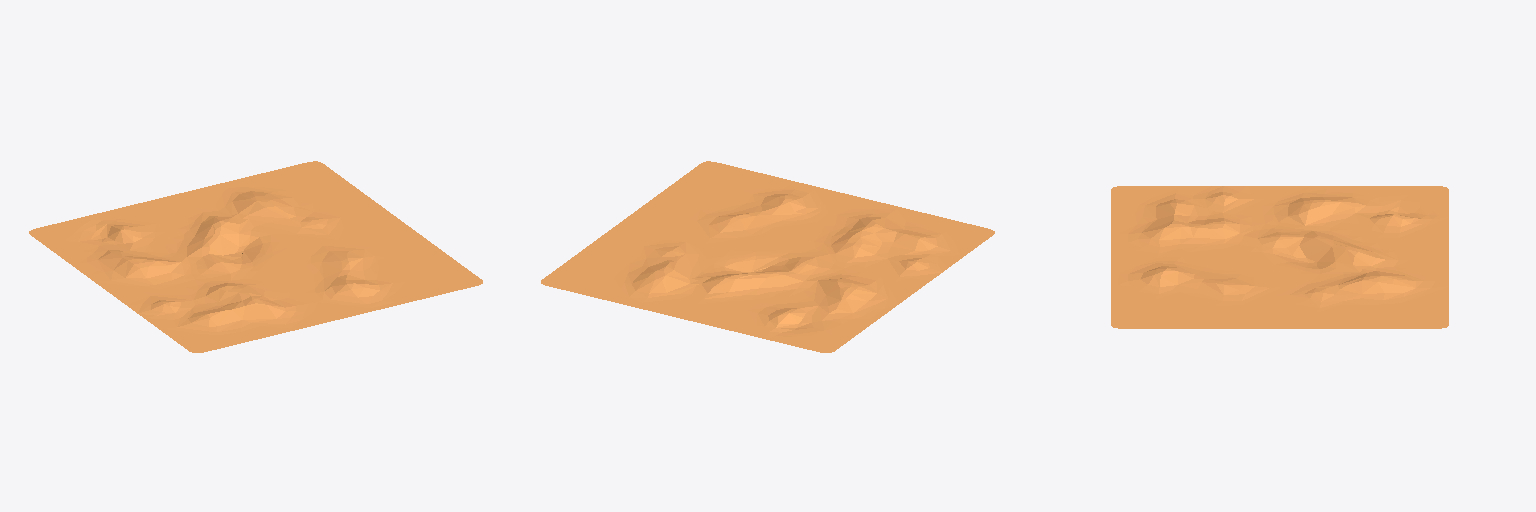
Rendered from Ground01.obj.
3 renders of one model, left to right at view 1: azimuth 30°, elevation 25°; view 2: azimuth 150°, elevation 25°; view 3: azimuth 270°, elevation 25°, orthographic.
Visible parts, largest first — view 1: Plane; view 2: Plane; view 3: Plane.
Part boxes in pixels (x1,y1,x2,y2): Plane: (29,161,482,352); Plane: (541,161,994,352); Plane: (1111,186,1448,328).
Bounding box in the file's own units: 200 × 7.66 × 200.